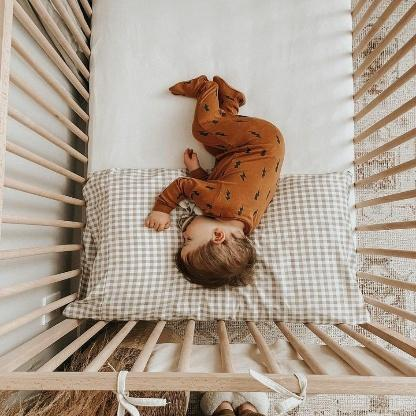baby: (145, 75, 286, 290)
